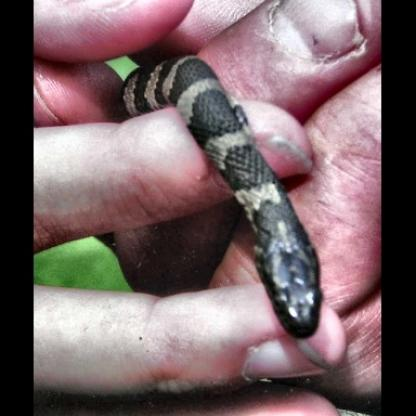Snake: (119, 56, 326, 342)
